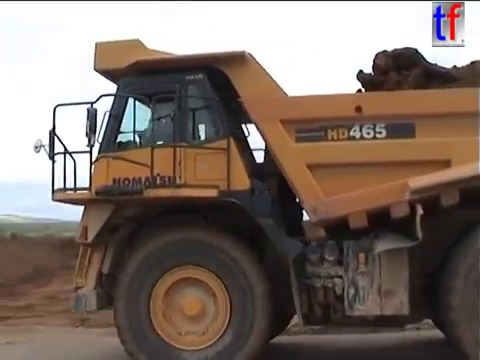truck: (30, 34, 480, 360)
